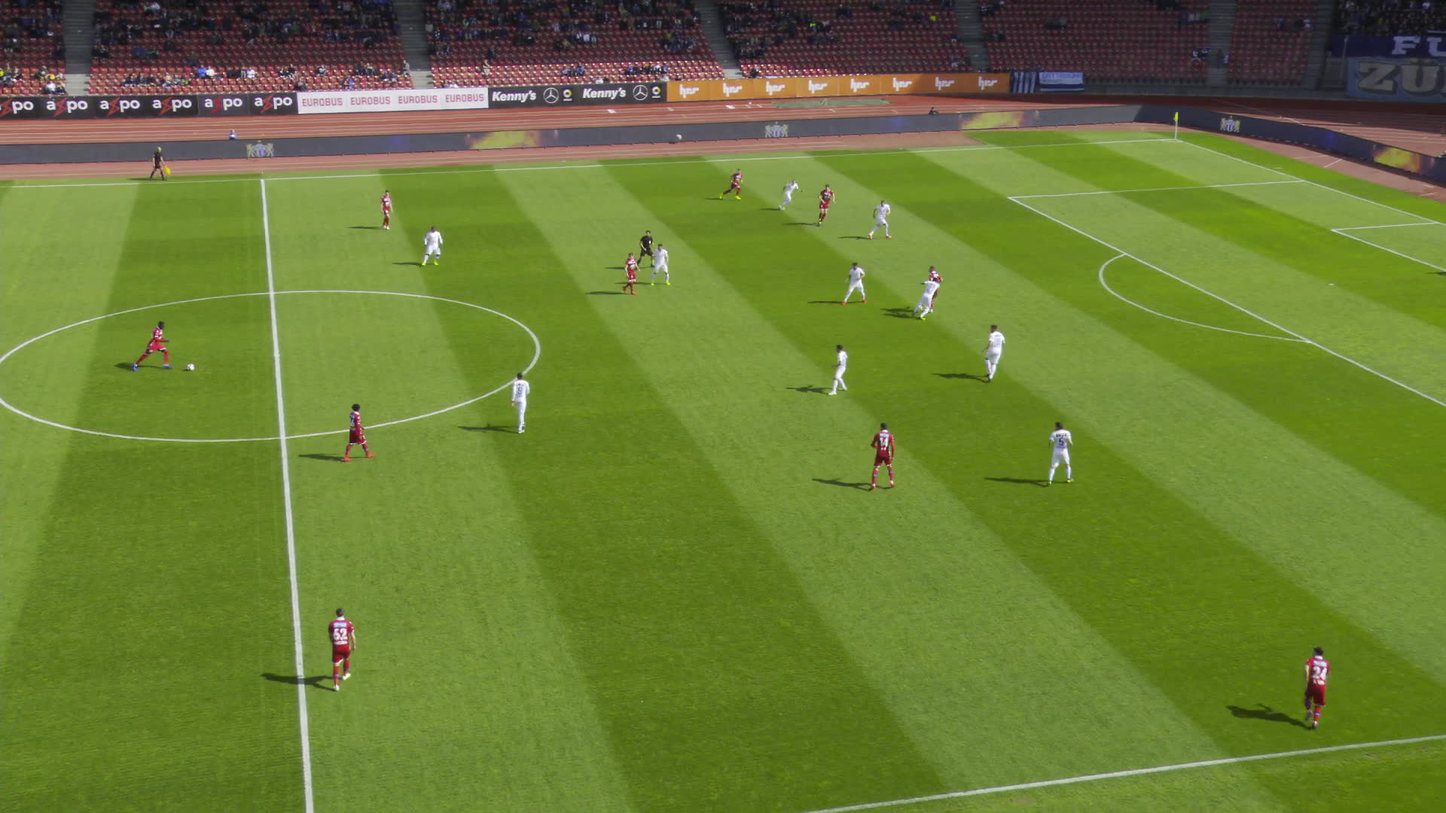ball: (188, 362, 197, 370)
player: (321, 607, 364, 694), (1301, 644, 1337, 730), (133, 314, 171, 376), (341, 402, 377, 464), (1044, 421, 1076, 489), (870, 416, 897, 491), (506, 365, 535, 434), (982, 324, 1008, 384), (828, 337, 852, 400), (908, 275, 938, 321), (842, 260, 868, 309), (421, 221, 446, 269), (618, 249, 642, 296), (868, 197, 892, 243), (651, 242, 673, 288), (775, 177, 803, 212), (377, 187, 399, 230), (815, 183, 835, 227), (929, 264, 946, 314), (718, 167, 742, 202)
referee: (636, 224, 659, 273), (149, 145, 174, 184)
